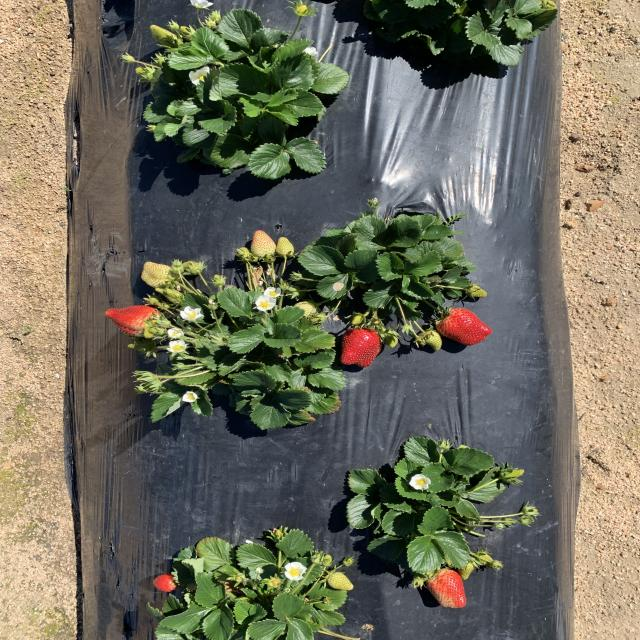unripe: (433, 308, 493, 347), (424, 566, 468, 610), (106, 306, 162, 338), (338, 326, 380, 368), (150, 572, 185, 592)
